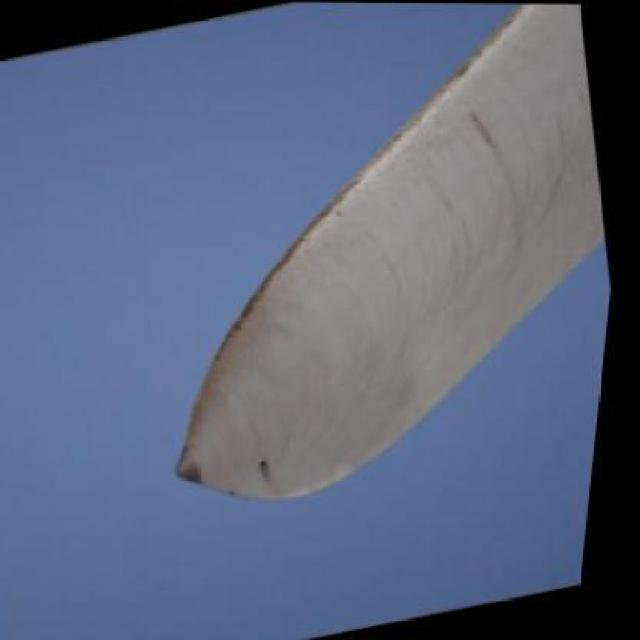Burn Mark: (266, 460, 280, 478)
EROSION: (156, 32, 501, 368)
